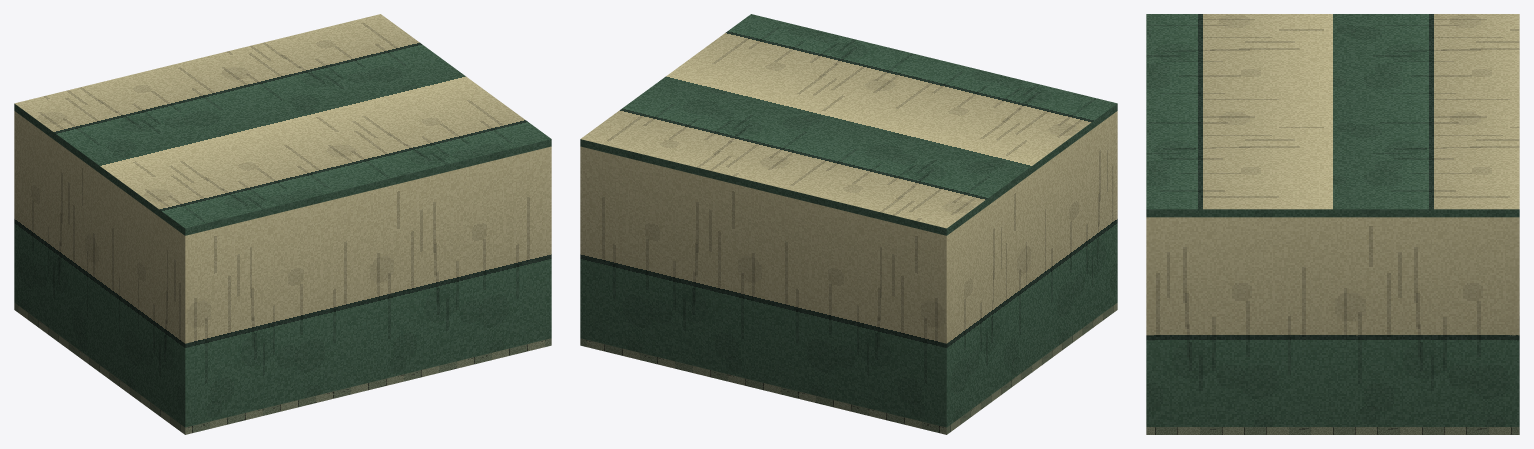
Rendered from ward_probe.glb.
3 views of the same model, side by side, from view 1: azimuth 30°, elevation 25°; view 2: azimuth 150°, elevation 25°; view 3: azimuth 270°, elevation 25° (orthographic). The views are drawn at different scales.
Visible parts, largest first — view 1: wall_front, ceiling, wall_left, floor, wall_right; view 2: wall_back, ceiling, wall_left, floor, wall_front; view 3: wall_right, ceiling, floor, wall_back, wall_front.
Part boxes in pixels (left/top/right/bottom): wall_front: left=181, top=146, right=551, bottom=427; ceiling: left=14, top=14, right=551, bottom=235; wall_left: left=14, top=111, right=192, bottom=426; floor: left=14, top=303, right=551, bottom=434; wall_right: left=544, top=147, right=550, bottom=339; wall_back: left=580, top=146, right=950, bottom=427; ceiling: left=580, top=14, right=1117, bottom=235; wall_left: left=939, top=111, right=1117, bottom=427; floor: left=580, top=303, right=1117, bottom=434; wall_front: left=1113, top=111, right=1117, bottom=304; wall_right: left=1146, top=217, right=1519, bottom=426; ceiling: left=1146, top=14, right=1519, bottom=217; floor: left=1146, top=427, right=1519, bottom=434; wall_back: left=1510, top=217, right=1519, bottom=423; wall_front: left=1146, top=217, right=1155, bottom=414.
Size of the model in its own units: 5.2 by 2.8 by 4.2.
Materials: 17 (17 with a texture image).
